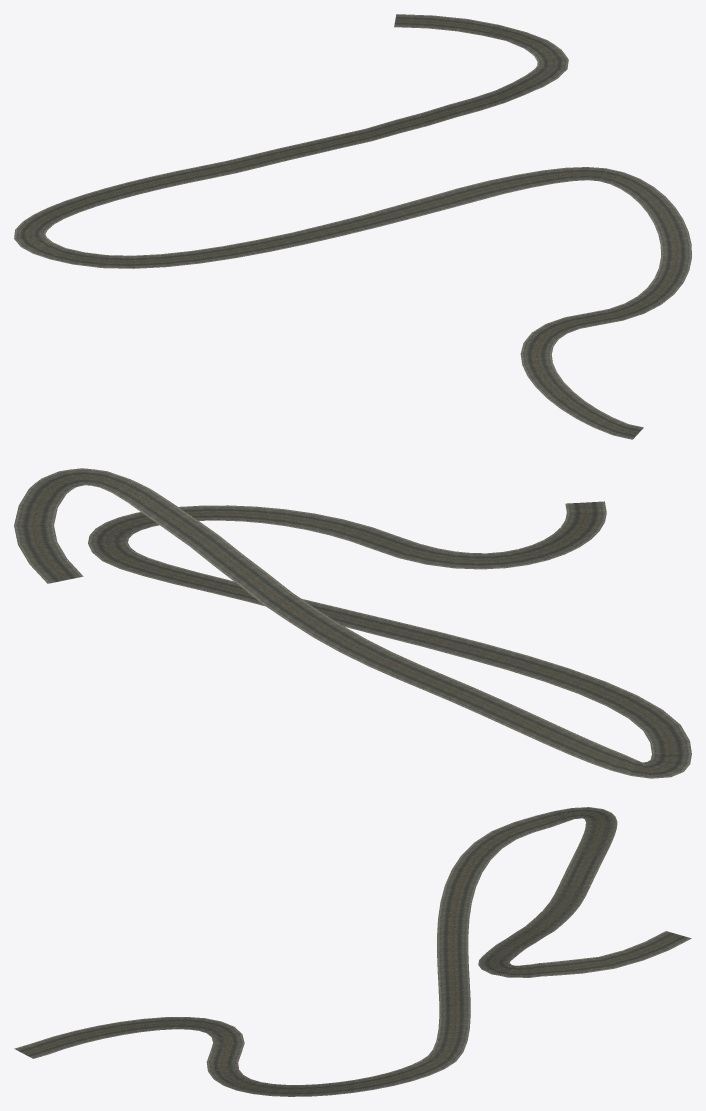
The model's file is lodcunte_roads35a.obj.
3 views of the same model, one above another, from view 1: azimuth 30°, elevation 25°; view 2: azimuth 150°, elevation 25°; view 3: azimuth 270°, elevation 25° (orthographic). The views are drawn at different scales.
Visible parts, largest first — view 1: LODcunte_roads35a; view 2: LODcunte_roads35a; view 3: LODcunte_roads35a.
Part boxes in pixels (<box>): LODcunte_roads35a: <box>14,14,691,439</box>; LODcunte_roads35a: <box>14,468,691,778</box>; LODcunte_roads35a: <box>14,807,691,1096</box>.
Size of the model in its own units: 245 by 68.72 by 259.
Materials: 1 (1 with a texture image).
